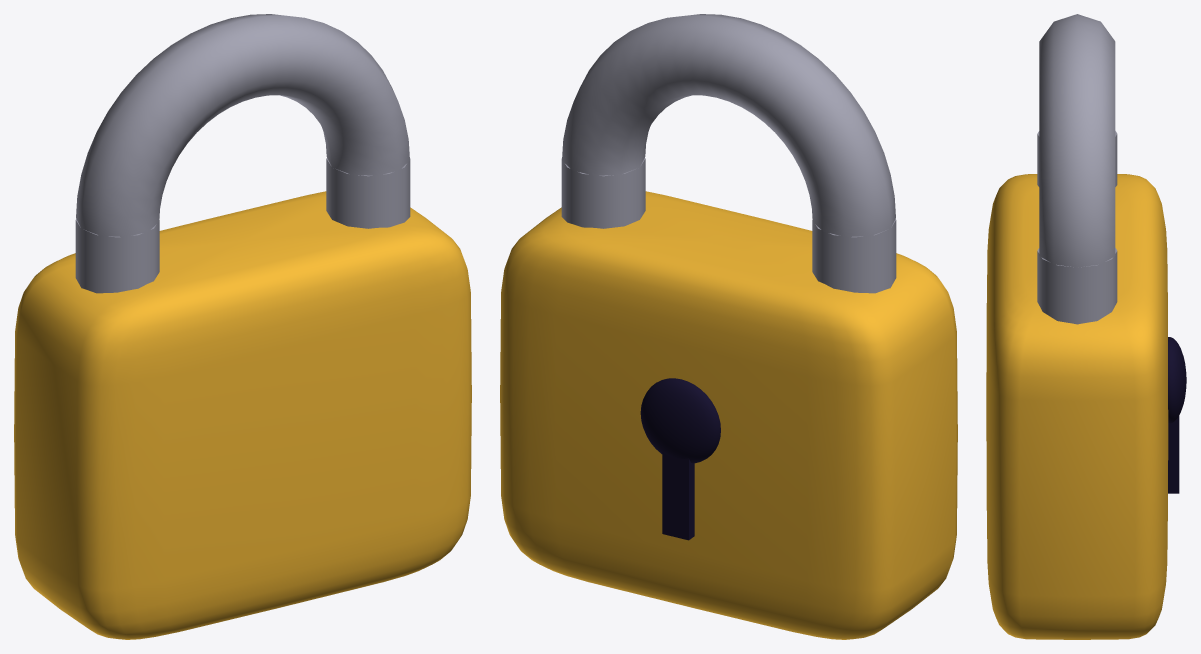
File: Padlock.obj
3 views of the same model, side by side, from view 1: azimuth 30°, elevation 25°; view 2: azimuth 150°, elevation 25°; view 3: azimuth 270°, elevation 25° (orthographic). The views are drawn at different scales.
Parts seen in each view (by area): view 1: Body, Shackle; view 2: Body, Shackle, Keyhole; view 3: Body, Shackle, Keyhole.
Part boxes in pixels (box(x1,y1,x2,y2)): Body: box(14, 191, 471, 639); Shackle: box(75, 14, 410, 293); Body: box(500, 191, 957, 639); Shackle: box(561, 14, 896, 293); Keyhole: box(640, 378, 720, 540); Body: box(986, 174, 1168, 639); Shackle: box(1037, 14, 1117, 324); Keyhole: box(1168, 337, 1186, 493).
Size of the model in its own units: 0.12 by 0.164 by 0.055.
